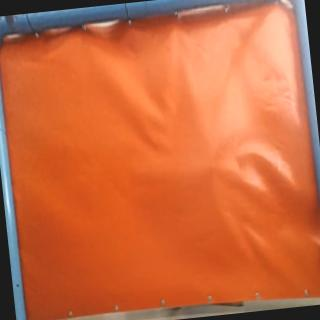Hit-hRxx: (206, 160, 224, 173)
